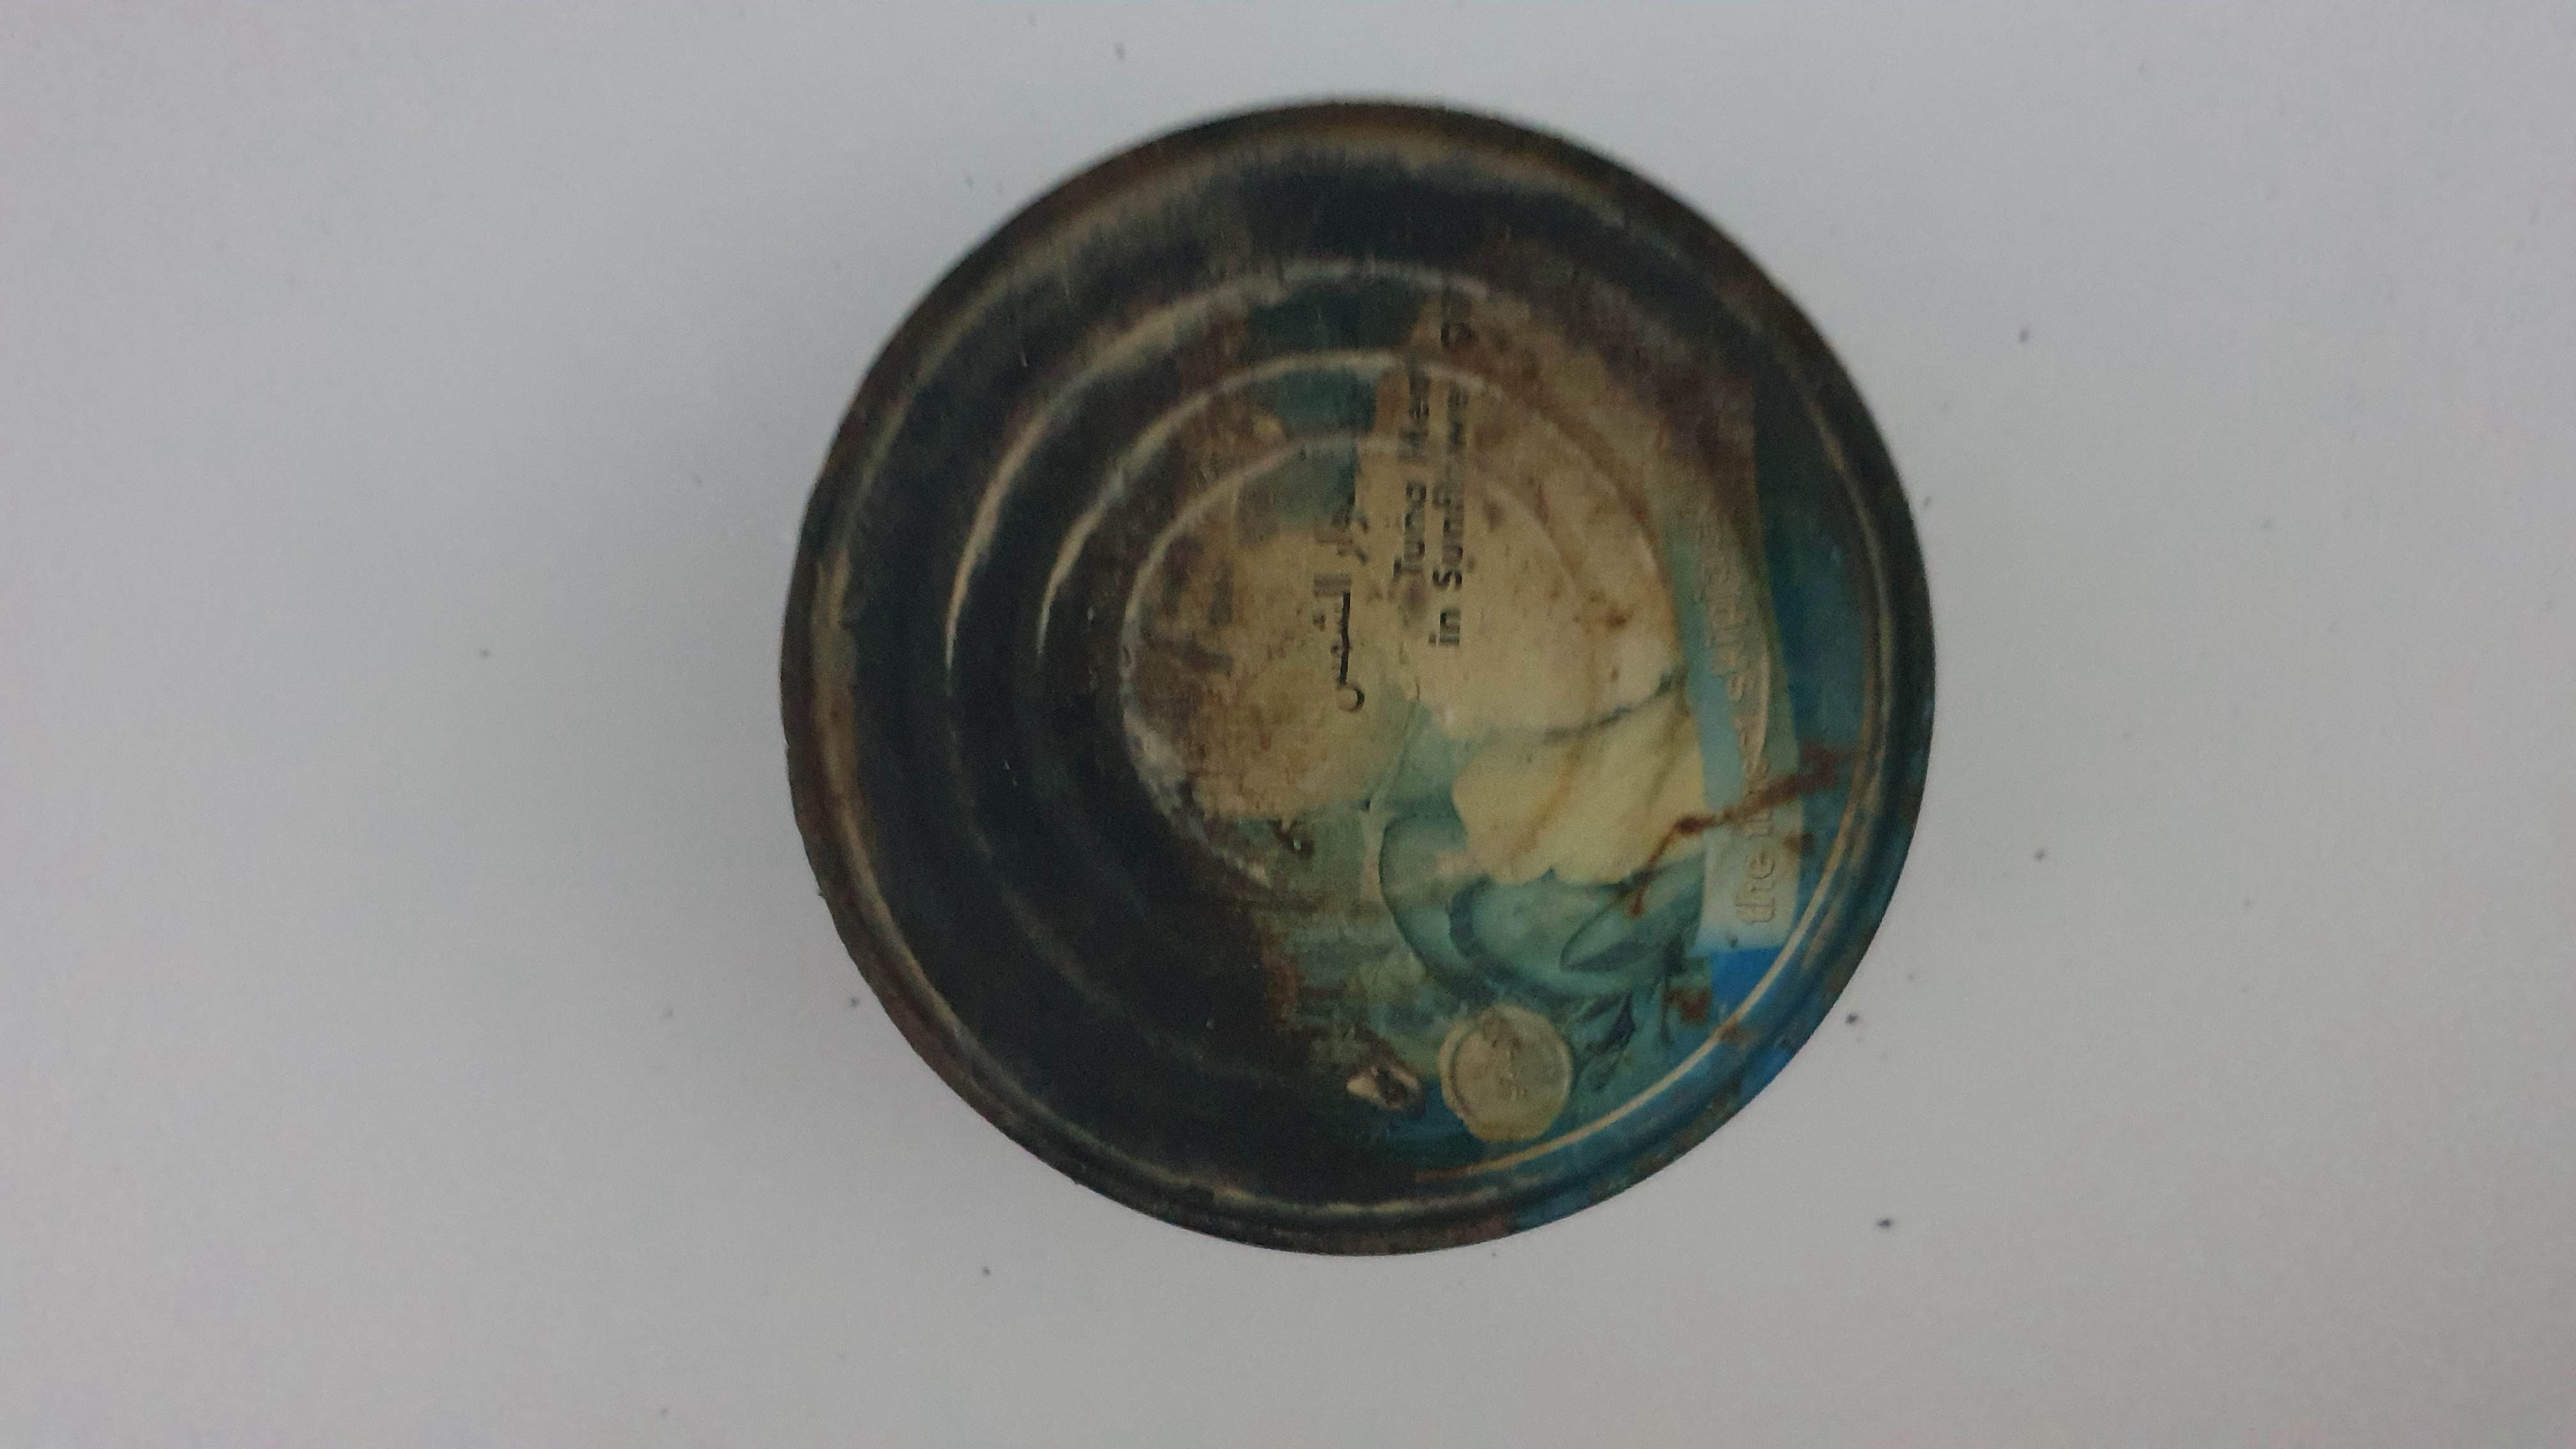metal: (741, 78, 1967, 1286)
